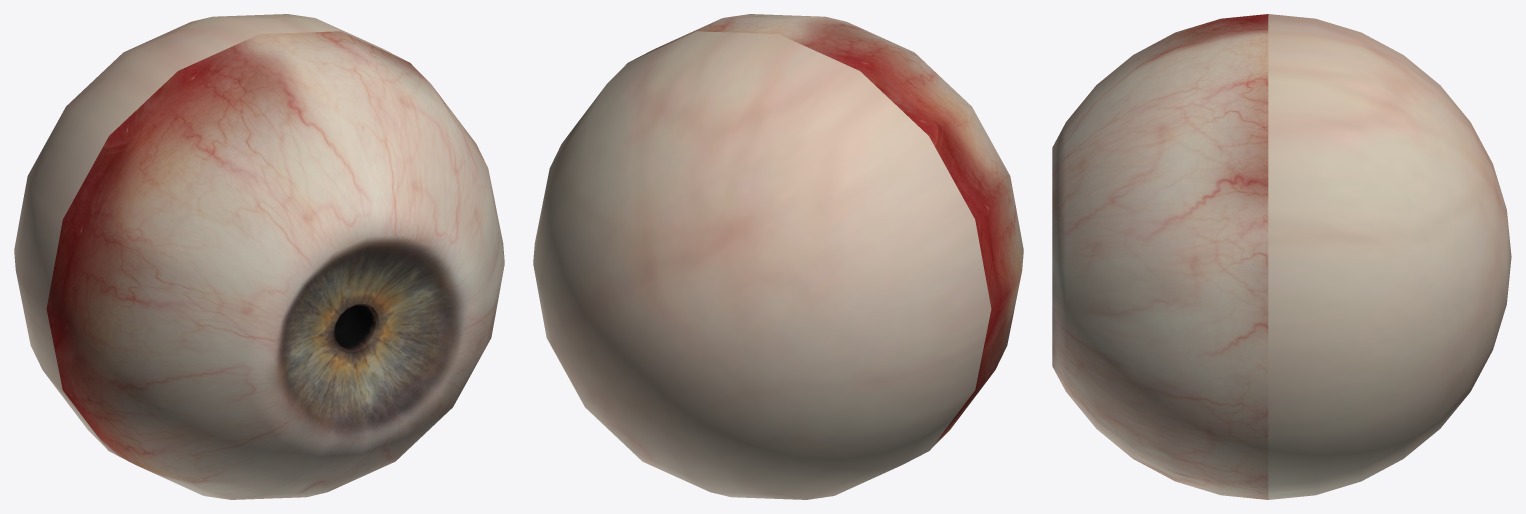
File: eye.fbx
3 renders of one model, left to right at view 1: azimuth 30°, elevation 25°; view 2: azimuth 150°, elevation 25°; view 3: azimuth 270°, elevation 25°, orthographic.
Parts seen in each view (by area): view 1: eye_iris; view 2: eye_iris; view 3: eye_iris.
Boxes of the visible parts, box(x1,y1,x2,y2) form: eye_iris: box(14, 14, 504, 499); eye_iris: box(533, 14, 1023, 499); eye_iris: box(1052, 14, 1511, 499).
Size of the model in its own units: 2.49 by 2.49 by 2.35.
